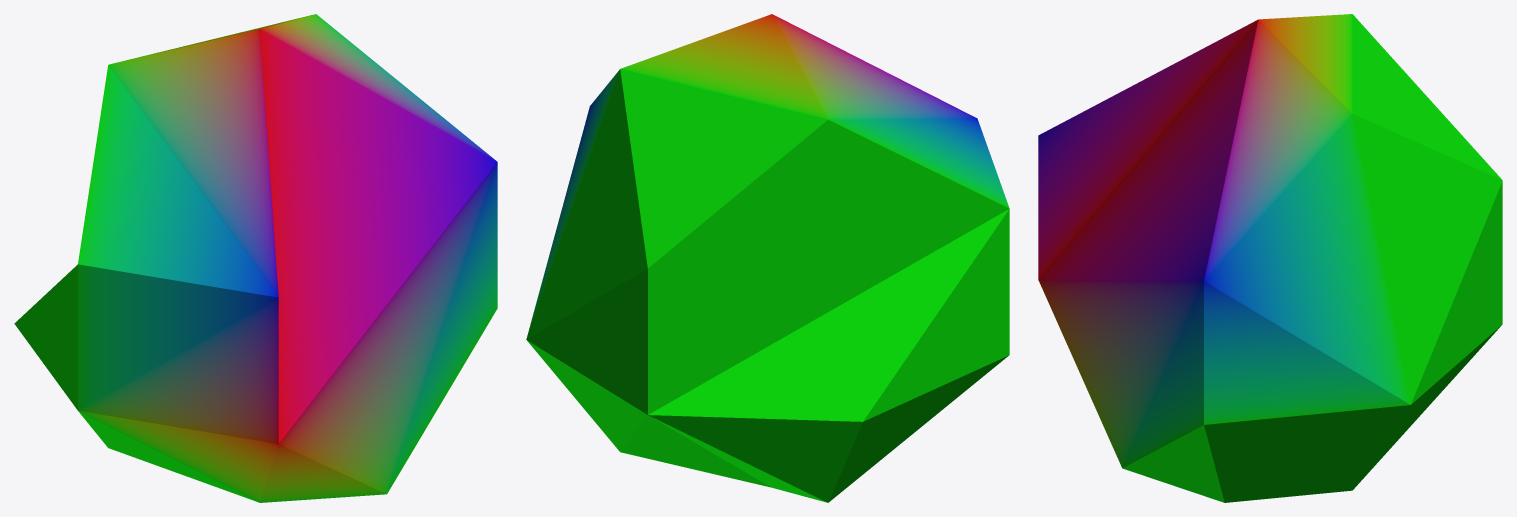
The model's file is after_decimating_conquest_4_1.obj.
The picture shows the model from 3 angles, left to right: view 1: azimuth 30°, elevation 25°; view 2: azimuth 150°, elevation 25°; view 3: azimuth 270°, elevation 25°; orthographic projection.
Bounding box in the file's own units: 1.85 × 2 × 1.81.
